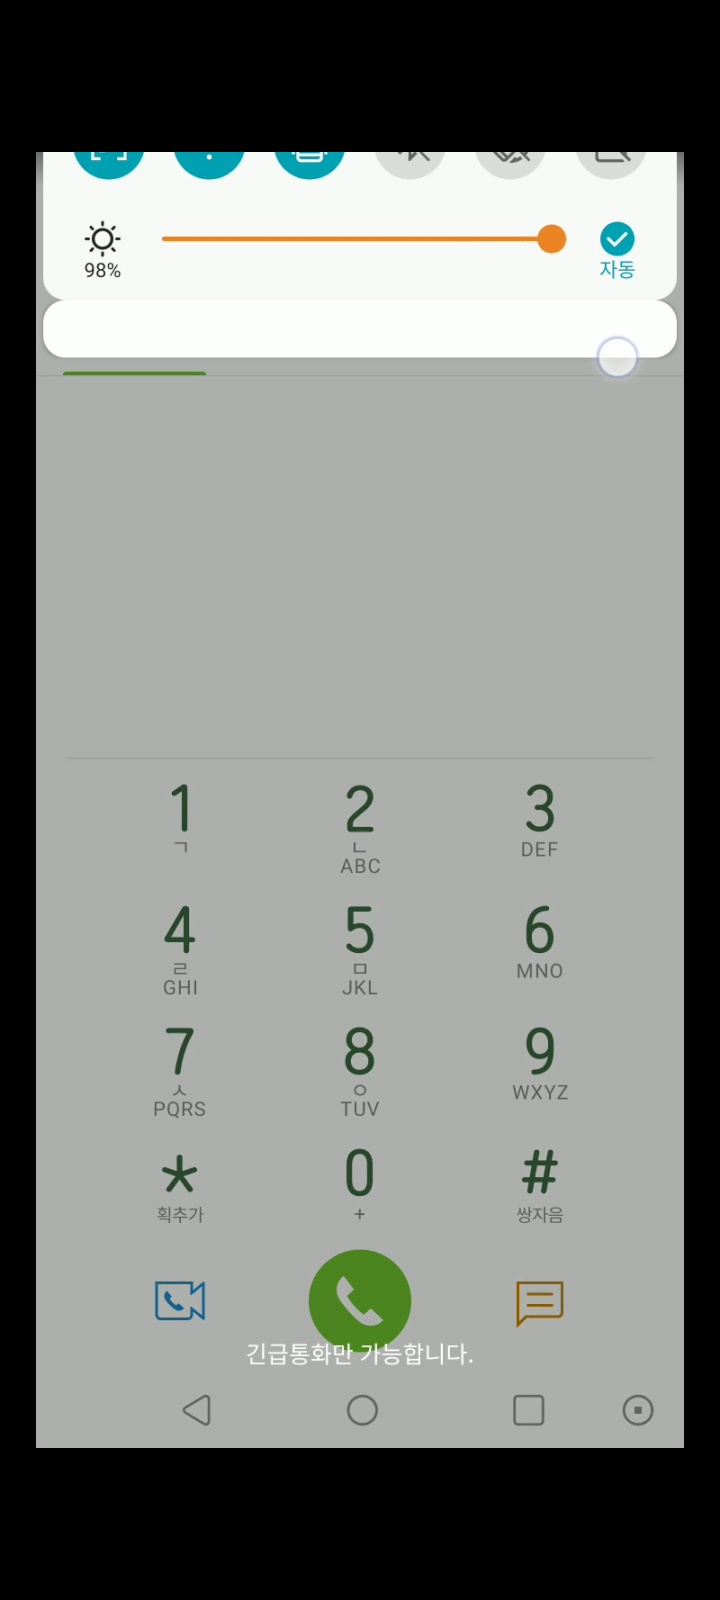Cursor: (595, 334, 640, 379)
